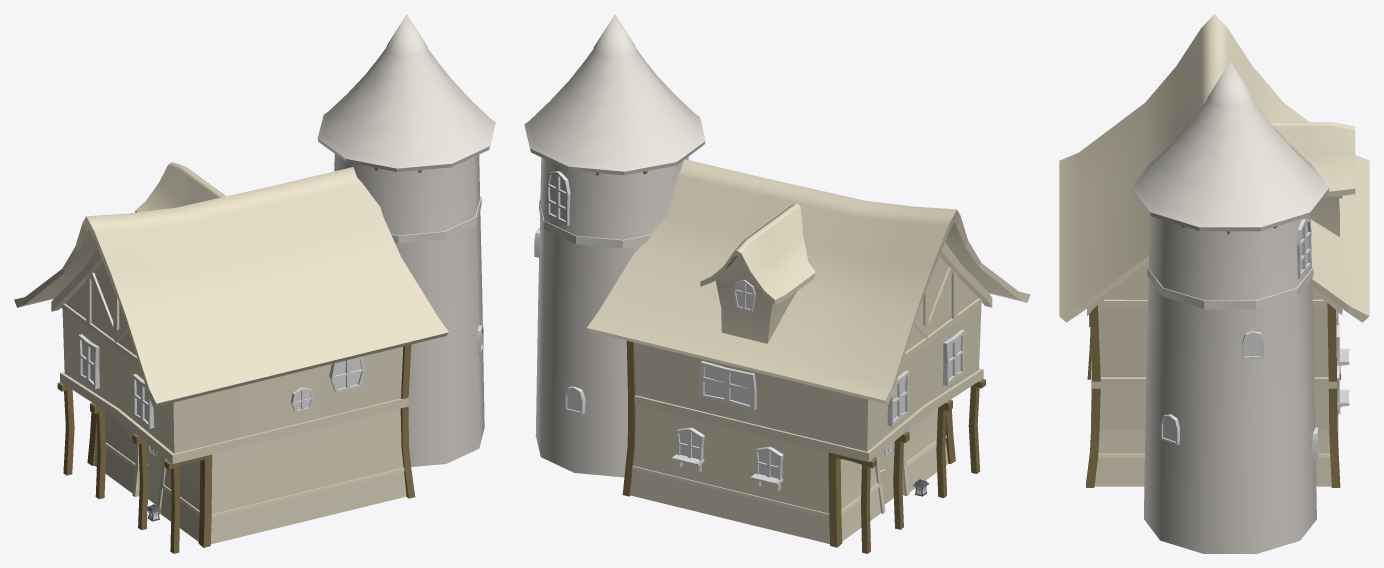
The model's file is House 2.fbx.
3 renders of one model, left to right at view 1: azimuth 30°, elevation 25°; view 2: azimuth 150°, elevation 25°; view 3: azimuth 270°, elevation 25°, orthographic. The views are drawn at different scales.
Parts seen in each view (by area): view 1: polySurface132; view 2: polySurface132; view 3: polySurface132.
Part boxes in pixels (x1=…): polySurface132: x1=14, y1=14, x2=495, y2=553; polySurface132: x1=524, y1=14, x2=1030, y2=553; polySurface132: x1=1059, y1=14, x2=1369, y2=553.
Bounding box in the file's own units: 1155 × 1153 × 705.
